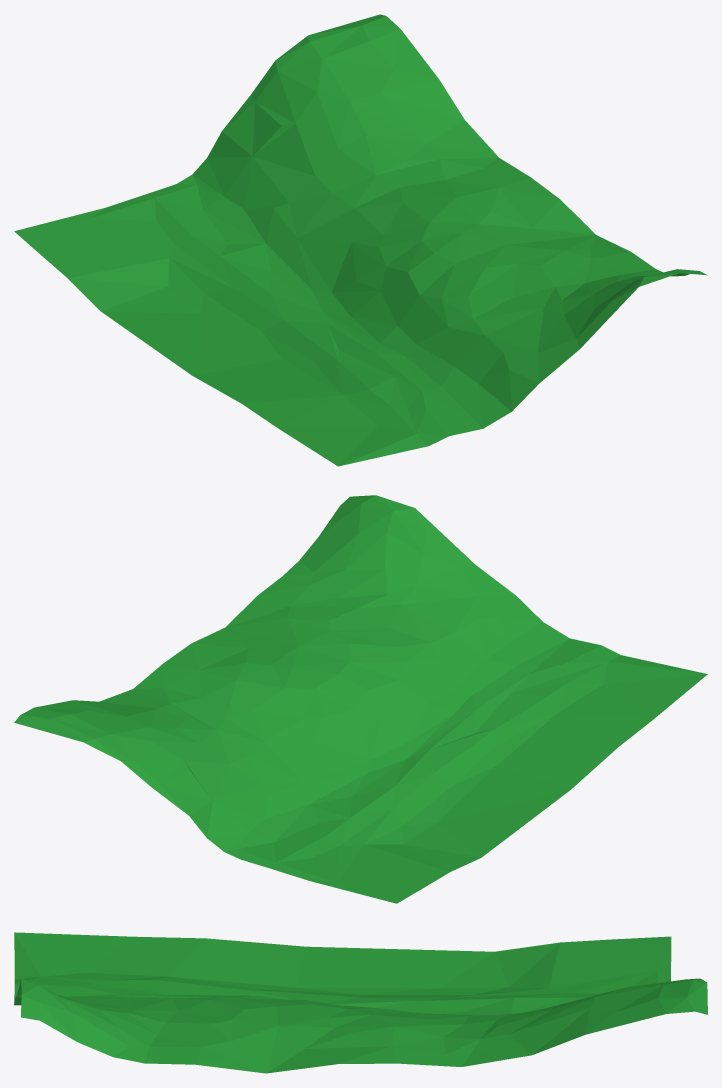
The model's file is Field_L4.fbx.
The picture shows the model from 3 angles, top to bottom: view 1: azimuth 30°, elevation 25°; view 2: azimuth 150°, elevation 25°; view 3: azimuth 270°, elevation 25°; orthographic projection. The views are drawn at different scales.
Visible parts, largest first — view 1: L4; view 2: L4; view 3: L4.
Boxes of the visible parts, x1,y1,x2,y2 form: L4: (14, 14, 707, 466); L4: (14, 495, 707, 903); L4: (14, 932, 707, 1073).
Size of the model in its own units: 2513 by 803 by 3867.
